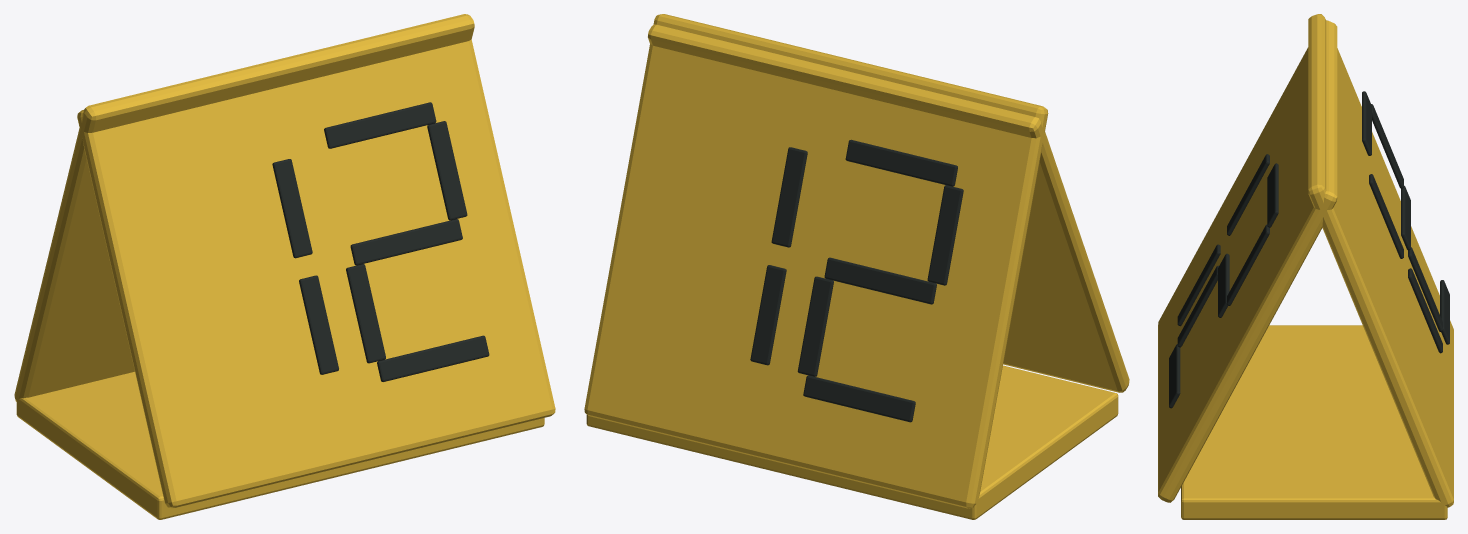
Rendered from source-edit.glb.
3 renders of one model, left to right at view 1: azimuth 30°, elevation 25°; view 2: azimuth 150°, elevation 25°; view 3: azimuth 270°, elevation 25°, orthographic. The views are drawn at different scales.
Visible parts, largest first — view 1: PANEL_Front, PANEL_Back, BASE_Tie, DIGIT_Front_Right_a, DIGIT_Front_Right_d, DIGIT_Front_Right_g, DIGIT_Front_Right_b, DIGIT_Front_Left_c, DIGIT_Front_Right_e, DIGIT_Front_Left_b; view 2: PANEL_Back, PANEL_Front, BASE_Tie, DIGIT_Back_Right_a, DIGIT_Back_Right_d, DIGIT_Back_Right_g, DIGIT_Back_Left_b, DIGIT_Back_Left_c, DIGIT_Back_Right_b, DIGIT_Back_Right_e; view 3: BASE_Tie, PANEL_Front, PANEL_Back, DIGIT_Front_Left_c, DIGIT_Front_Left_b, DIGIT_Front_Right_b, DIGIT_Front_Right_e, DIGIT_Back_Left_c, DIGIT_Front_Right_a, DIGIT_Back_Left_b, DIGIT_Back_Right_e, DIGIT_Front_Right_d (+5 smaller).
Boxes of the visible parts, box(x1,y1,x2,y2) form: PANEL_Front: box(77, 39, 555, 508); PANEL_Back: box(14, 14, 474, 401); BASE_Tie: box(16, 371, 544, 519); DIGIT_Front_Right_a: box(324, 102, 436, 148); DIGIT_Front_Right_d: box(377, 335, 489, 381); DIGIT_Front_Right_g: box(350, 219, 462, 265); DIGIT_Front_Right_b: box(427, 121, 467, 220); DIGIT_Front_Left_c: box(299, 275, 338, 374); DIGIT_Front_Right_e: box(346, 264, 385, 363); DIGIT_Front_Left_b: box(272, 159, 312, 258); PANEL_Back: box(584, 14, 1048, 508); PANEL_Front: box(648, 24, 1129, 392); BASE_Tie: box(586, 365, 1118, 519); DIGIT_Back_Right_a: box(845, 139, 957, 186); DIGIT_Back_Right_d: box(803, 375, 915, 422); DIGIT_Back_Right_g: box(824, 257, 936, 304); DIGIT_Back_Left_b: box(771, 147, 807, 247); DIGIT_Back_Left_c: box(750, 265, 786, 365); DIGIT_Back_Right_b: box(927, 185, 963, 285); DIGIT_Back_Right_e: box(797, 276, 833, 376); BASE_Tie: box(1181, 325, 1447, 519); PANEL_Front: box(1158, 20, 1337, 502); PANEL_Back: box(1308, 14, 1453, 507); DIGIT_Front_Left_c: box(1177, 244, 1220, 326); DIGIT_Front_Left_b: box(1227, 154, 1269, 235); DIGIT_Front_Right_b: box(1227, 224, 1269, 305); DIGIT_Front_Right_e: box(1177, 265, 1218, 347); DIGIT_Back_Left_c: box(1408, 268, 1442, 353); DIGIT_Front_Right_a: box(1267, 163, 1278, 227); DIGIT_Back_Left_b: box(1369, 174, 1403, 258); DIGIT_Back_Right_e: box(1408, 247, 1442, 331); DIGIT_Front_Right_d: box(1169, 344, 1180, 408).
Size of the model in its own units: 0.14 by 0.1243 by 0.0998.
